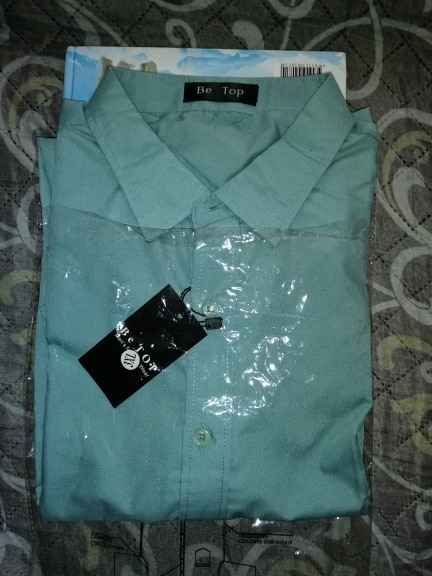shirts: (40, 64, 372, 516)
